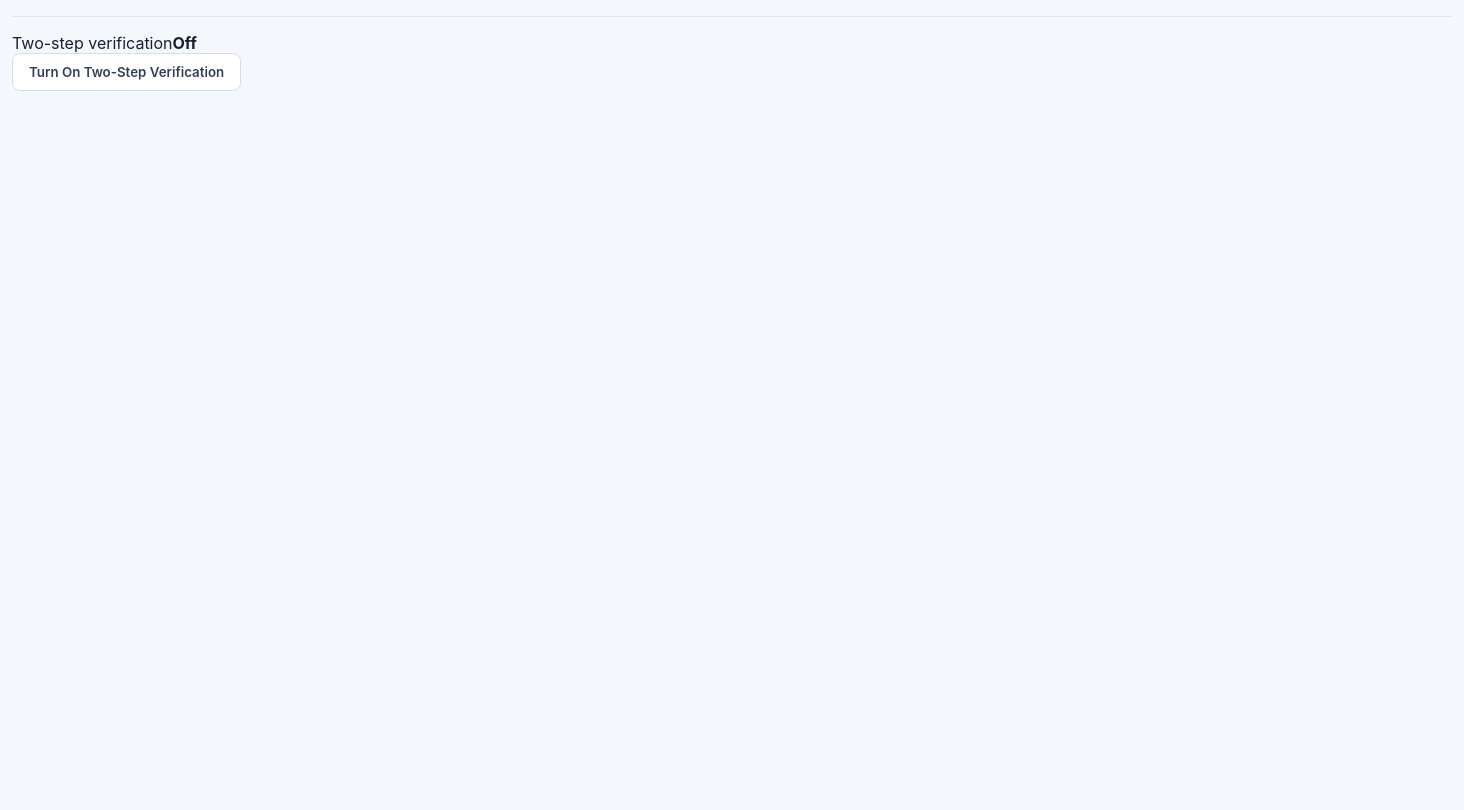
Test: TwoFactorSettings › shows a wrong-code error and stays on the scan step
Click the button "Turn On Two-Step Verification": (127,72) [12,53,241,91]
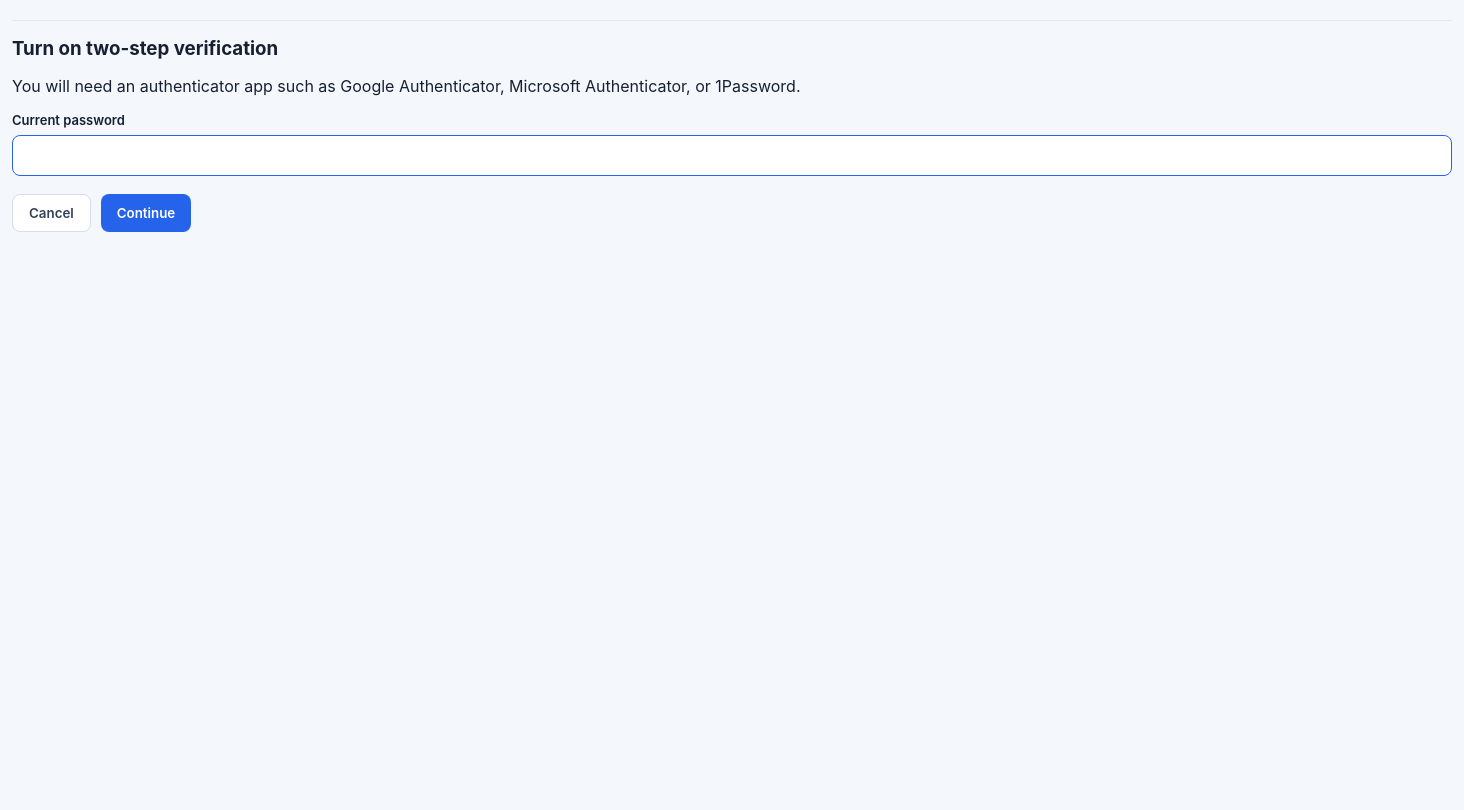
In the password field labelled "Current password": (732,156) [12,135,1452,176], type "my-password-123"
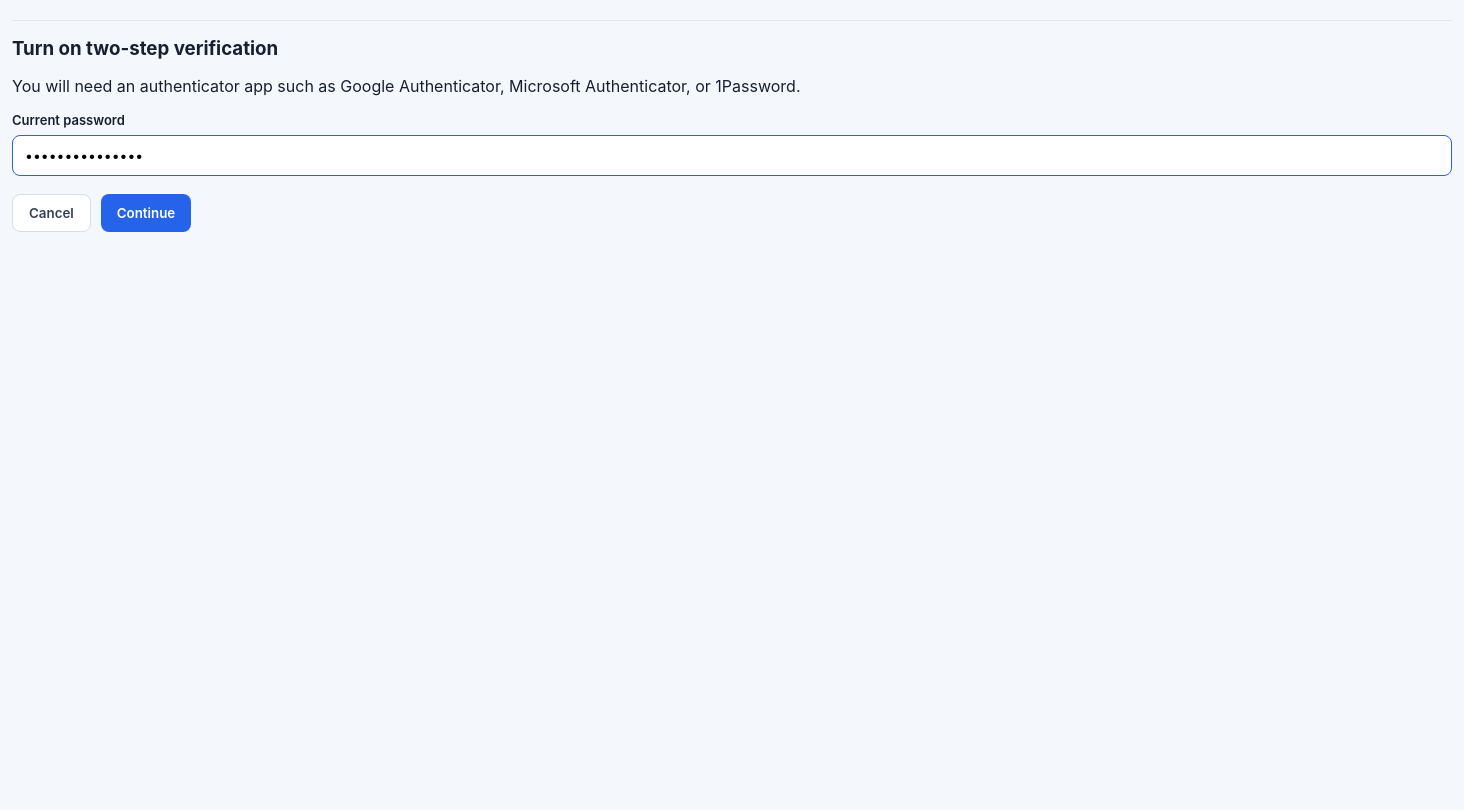
Click the button "Continue": (146,213) [101,194,191,232]
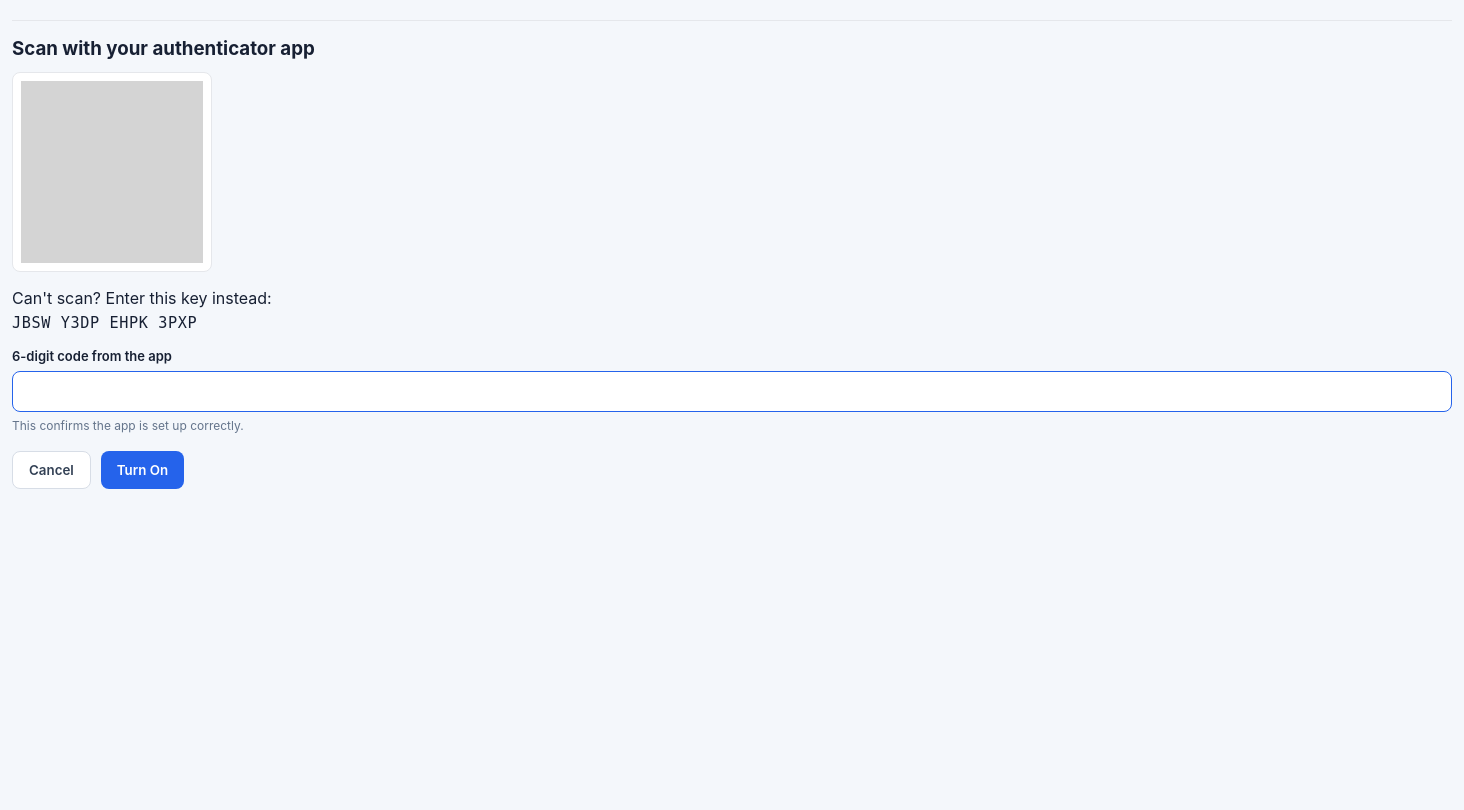
In the field labelled "6-digit code from the app": (732,392) [12,371,1452,412], type "000000"
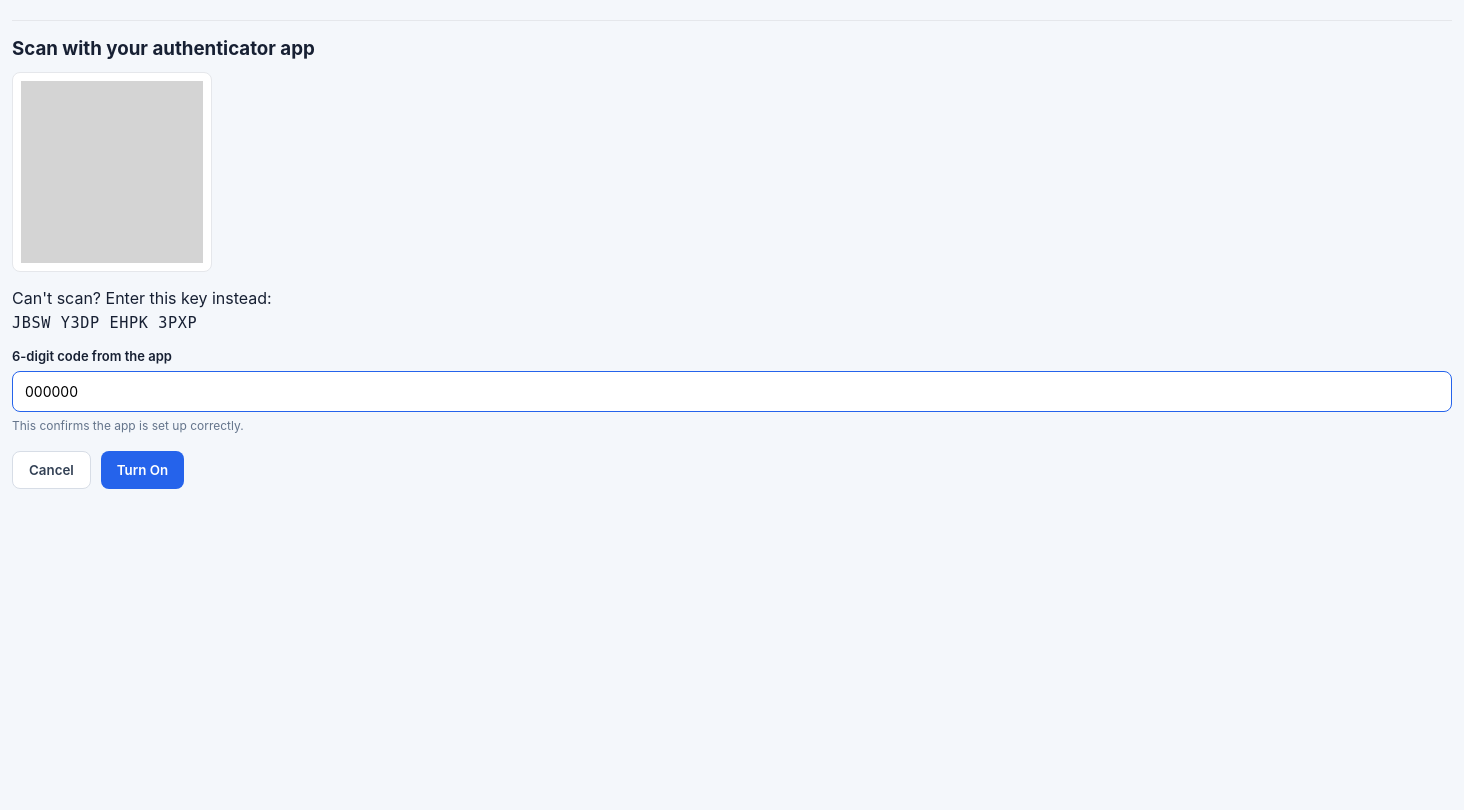
Click the button "Turn On": (142,470) [101,451,184,489]
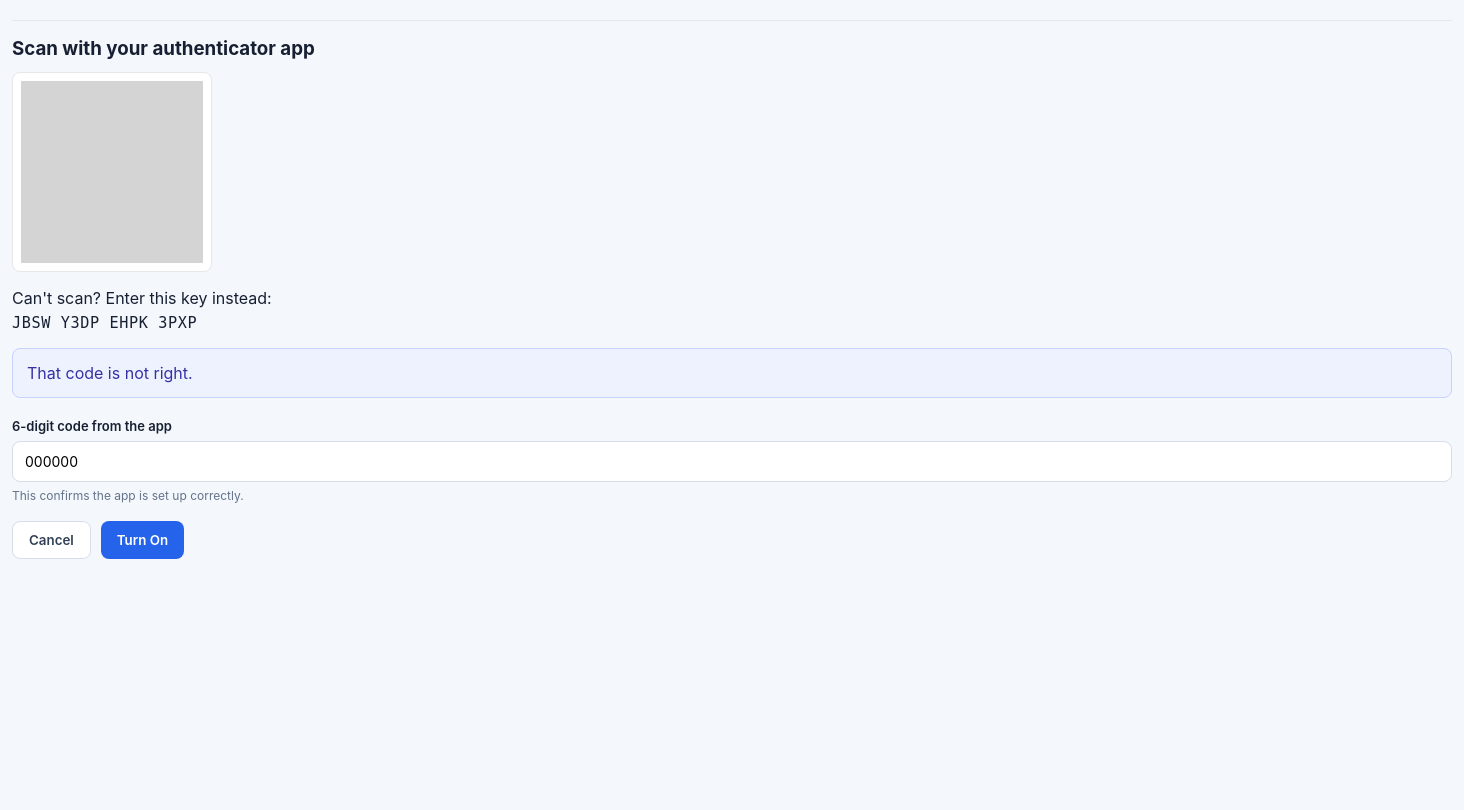
Result: the message reads "That code is not right." at [27,363,193,383]
